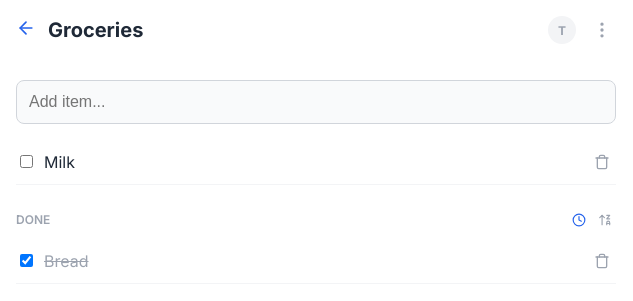
ListDetailPage › removes item when deleted
Check: the text "Milk" is shown, box [44, 152, 75, 172]
Step 1. Click the button named "Delete Milk" → click(602, 162), box [588, 148, 616, 176]
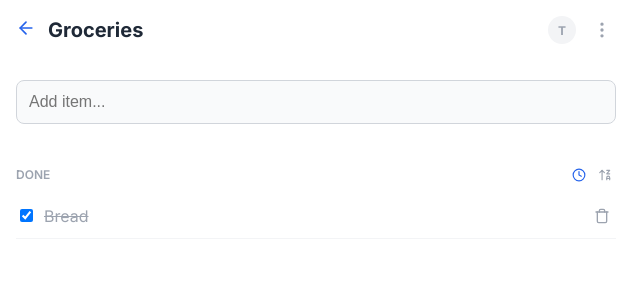
Check: the button "Milk" is gone
